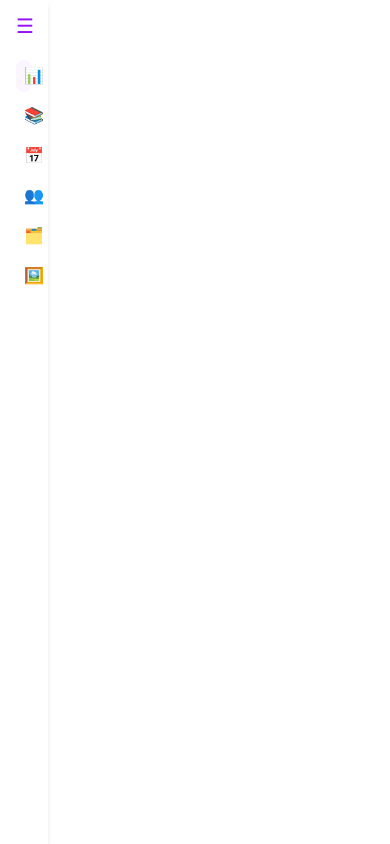
Test: AdminSidebar › clicking a nav link collapses the sidebar
// Expand first
Click the button named "expand navigation" at point(25, 26), box x1=16 y1=16 x2=34 y2=36
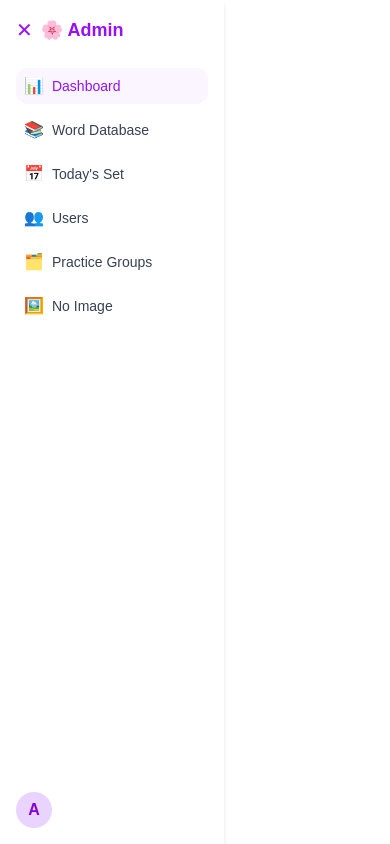
// Click a nav link
Click the link "📚 Word Database" at point(86, 130), box x1=24 y1=121 x2=149 y2=138
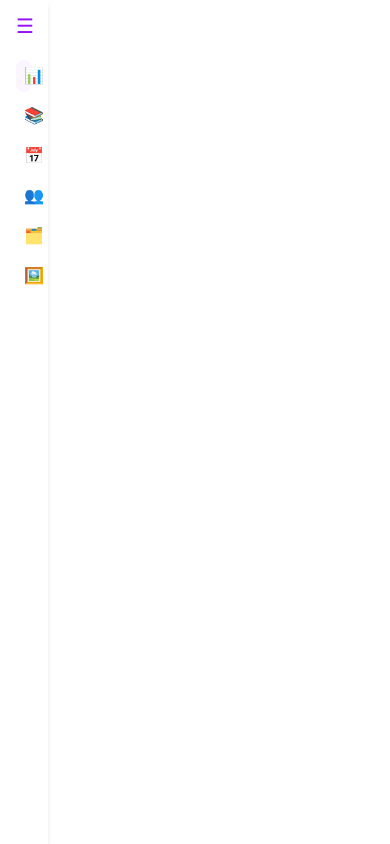
Expected: the button named "expand navigation" is shown, x1=16 y1=16 x2=34 y2=36
